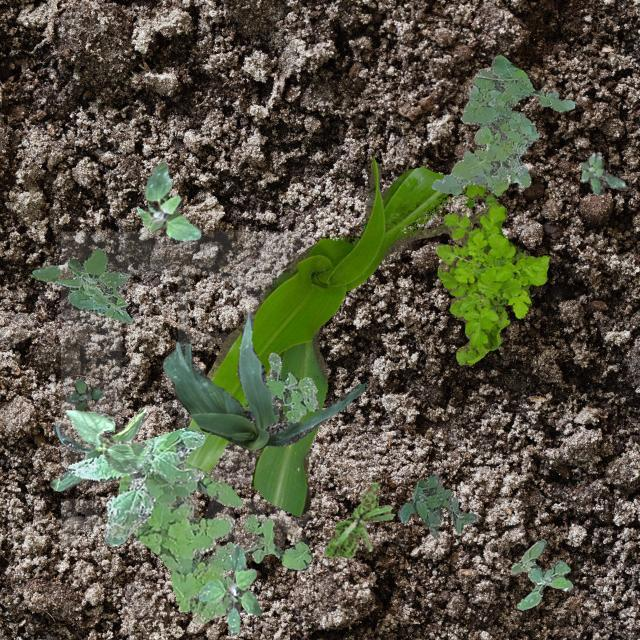crop: (183, 157, 488, 516), (162, 311, 366, 448), (48, 406, 146, 489), (63, 408, 145, 472)
weed: (434, 182, 548, 364), (118, 459, 242, 622), (430, 54, 574, 194), (68, 426, 204, 546), (31, 246, 130, 322), (208, 512, 312, 570), (198, 544, 260, 634), (324, 481, 394, 556), (396, 472, 476, 536), (136, 162, 200, 240), (511, 538, 572, 608), (264, 352, 318, 422), (580, 152, 624, 194), (64, 380, 102, 410)
